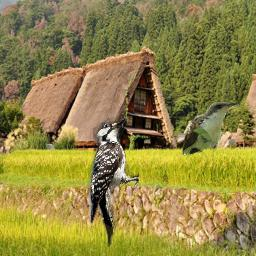Cuckoo: (181, 101, 236, 157)
Woodpecker: (86, 115, 139, 249)
